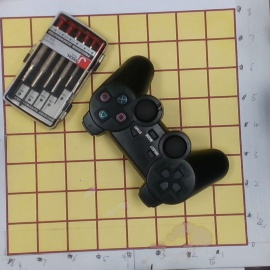remote: (83, 55, 230, 208)
